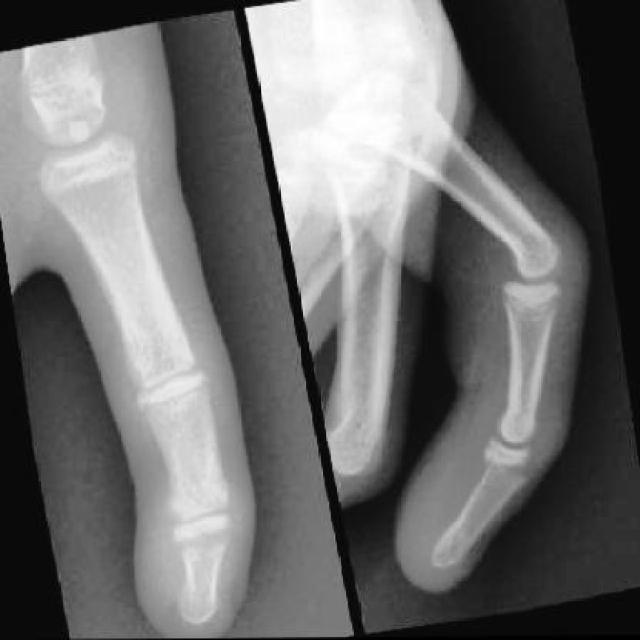Fracture: (483, 434, 543, 494), (174, 512, 245, 562)
